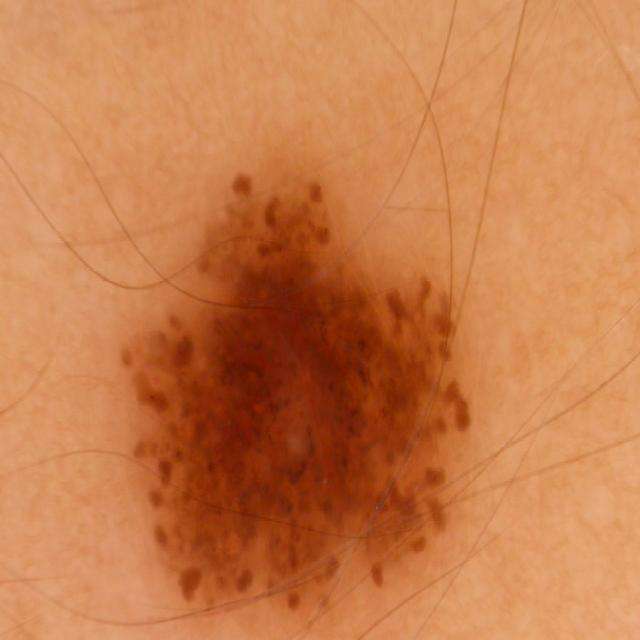Melanoma: (110, 144, 508, 640)
